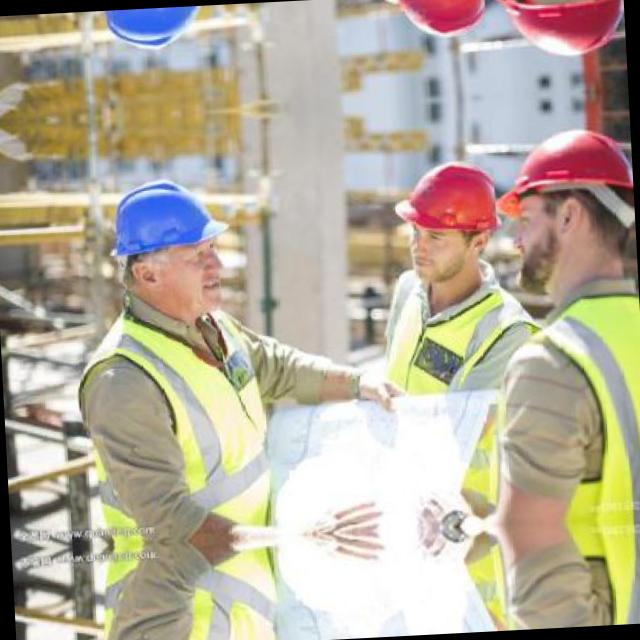helmet: (494, 106, 636, 298), (95, 160, 242, 329), (384, 147, 510, 294), (487, 0, 626, 81), (86, 4, 230, 68), (375, 0, 498, 52)
